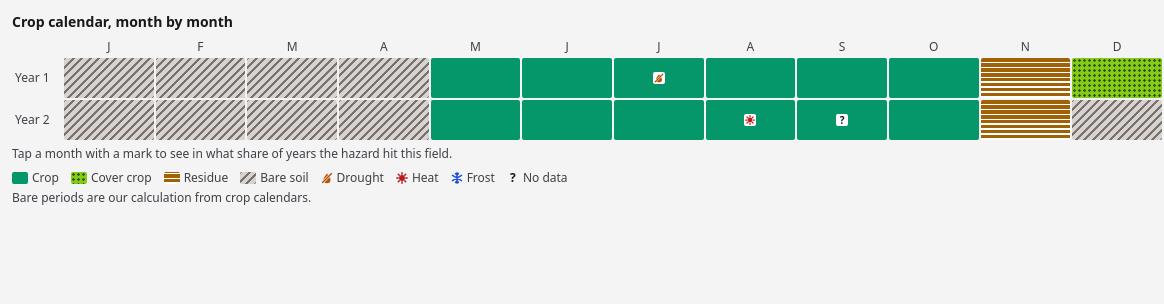
CalendarStrip › closes the details when the same month is tapped again
This screenshot has width=1164, height=304.
Click the button named "July, Maize, drought risk" at {"x": 659, "y": 78}, box [614,58,704,98]
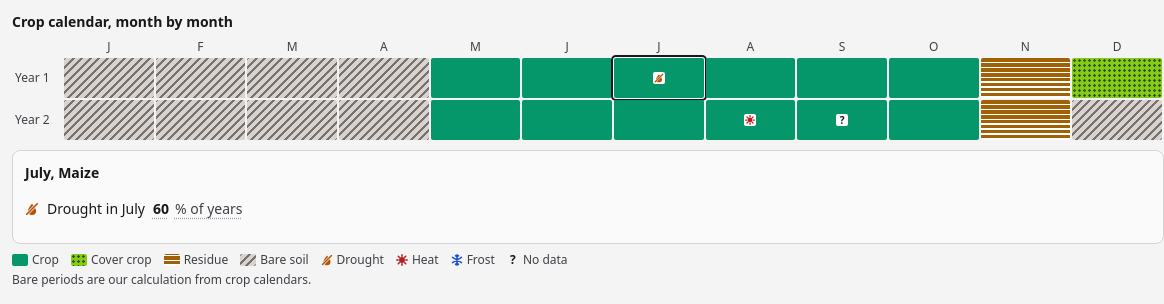
Click the button named "July, Maize, drought risk" at {"x": 659, "y": 78}, box [614,58,704,98]
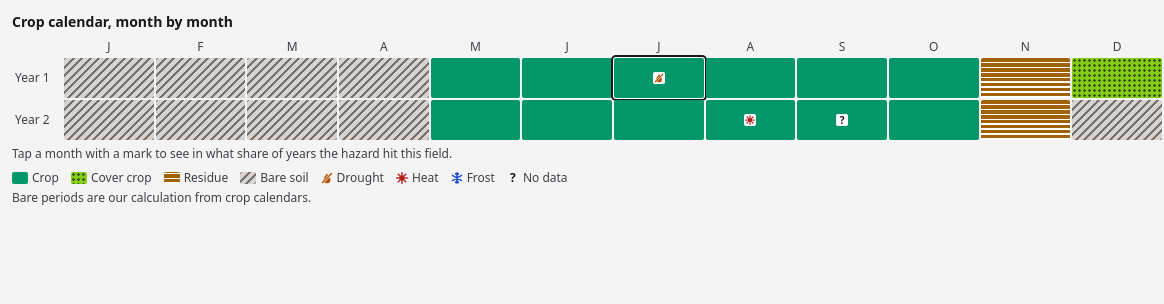
Expected: the text "Drought in July" is gone
